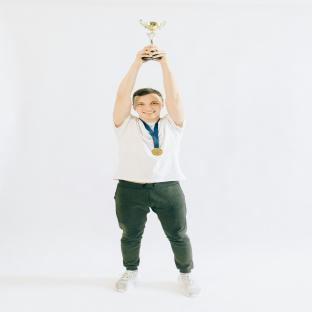Human: (113, 45, 201, 297)
